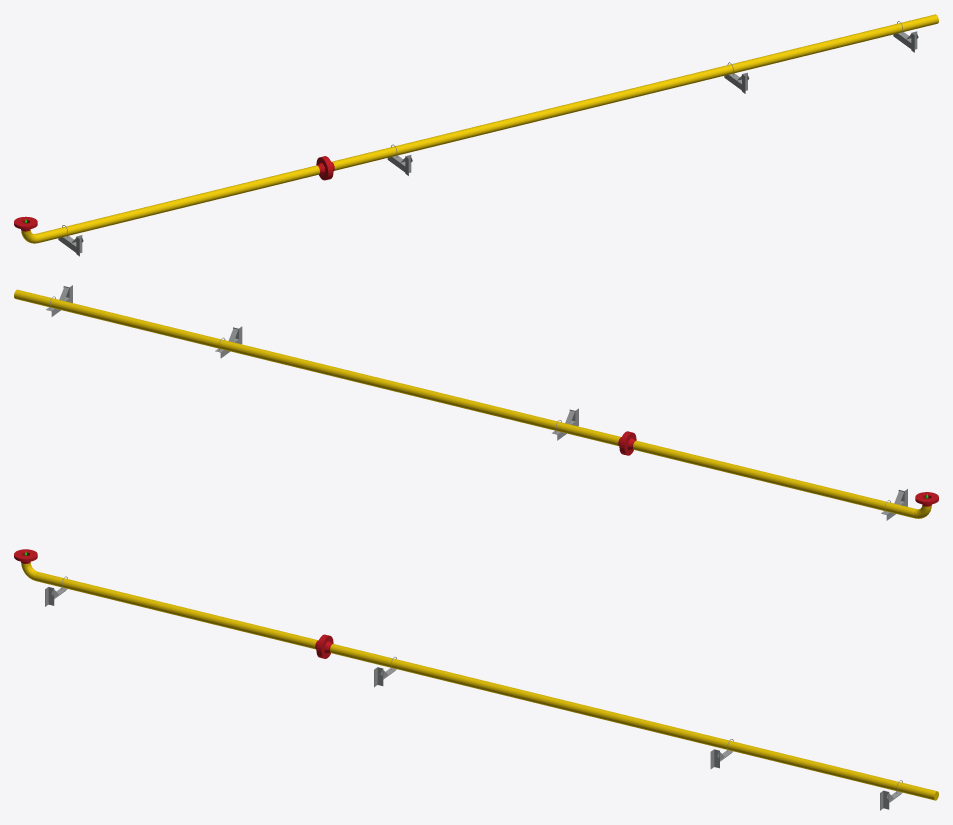
File: Phase43a.fbx
3 renders of one model, top to bottom at view 1: azimuth 30°, elevation 25°; view 2: azimuth 150°, elevation 25°; view 3: azimuth 330°, elevation 25°, orthographic.
Parts seen in each view (by area): view 1: Типы трубопроводов:CPS_Бесшовная труба из нс:1539507, Типы трубопроводов:CPS_Бесшовная труба из нс:1539494, Типы трубопроводов:CPS_Бесшовная труба из нс:1538591; view 2: Типы трубопроводов:CPS_Бесшовная труба из нс:1539507, Типы трубопроводов:CPS_Бесшовная труба из нс:1539494, Типы трубопроводов:CPS_Бесшовная труба из нс:1538591; view 3: Типы трубопроводов:CPS_Бесшовная труба из нс:1539507, Типы трубопроводов:CPS_Бесшовная труба из нс:1539494, Типы трубопроводов:CPS_Бесшовная труба из нс:1538591.
Part boxes in pixels (<box>): Типы трубопроводов:CPS_Бесшовная труба из нс:1539507: <box>630,14,938,97</box>; Типы трубопроводов:CPS_Бесшовная труба из нс:1539494: <box>331,89,633,170</box>; Типы трубопроводов:CPS_Бесшовная труба из нс:1538591: <box>36,165,319,242</box>; Типы трубопроводов:CPS_Бесшовная труба из нс:1539507: <box>14,289,321,373</box>; Типы трубопроводов:CPS_Бесшовная труба из нс:1539494: <box>319,364,620,446</box>; Типы трубопроводов:CPS_Бесшовная труба из нс:1538591: <box>633,440,915,517</box>; Типы трубопроводов:CPS_Бесшовная труба из нс:1539507: <box>629,717,938,800</box>; Типы трубопроводов:CPS_Бесшовная труба из нс:1539494: <box>330,644,631,725</box>; Типы трубопроводов:CPS_Бесшовная труба из нс:1538591: <box>34,572,317,649</box>.
Bounding box in the file's own units: 9850 × 432 × 353.
